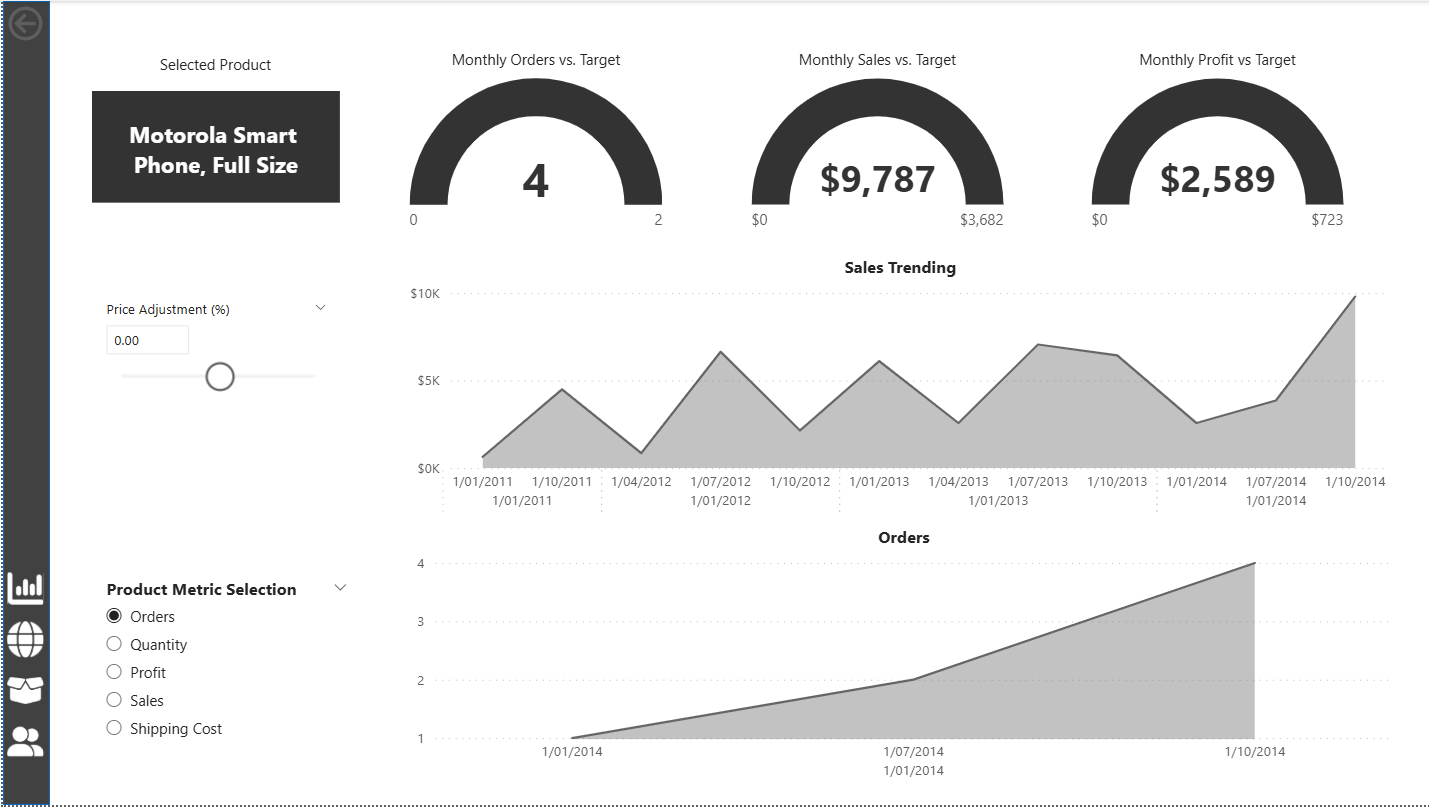

The dashboard page shown, as its layout file describes it:
{"tool":"powerbi","page":{"name":"Product Detail","canvas":[1280,720],"ordinal":2},"visuals":[{"type":"gauge","title":"Monthly Orders vs. Target","fields":{"Y":["Measure Table.Total Orders"],"MaxValue":["Measure Table.Order Target"]},"box":[359.1,43,236.4,175.5],"z":0},{"type":"actionButton","box":[0,506,42.1,40.3],"z":0,"group":"g1"},{"type":"gauge","title":"Monthly Sales vs. Target","fields":{"Y":["Measure Table.Total sales"],"MaxValue":["Measure Table.Sales Target"]},"box":[664.9,43,235.5,175.5],"z":1000},{"type":"actionButton","box":[0,506,42.1,40.3],"z":1000,"group":"g1"},{"type":"gauge","title":"Monthly Profit vs Target","fields":{"Y":["Measure Table.Total Profit"],"MaxValue":["Measure Table.Profit Target"]},"box":[969.9,43,235.5,175.5],"z":2000},{"type":"actionButton","box":[0,643,42.1,40.3],"z":2000,"group":"g1"},{"type":"areaChart","fields":{"Category":["bi_sales dim_date.Date Hierarchy.Start of Year","bi_sales dim_date.Date Hierarchy.Start of Month","bi_sales dim_date.Date Hierarchy.Start of Week"],"Y":["Measure Table.Total Orders"]},"box":[365.4,469.3,883,241.8],"z":3000},{"type":"actionButton","box":[0,643,42.1,40.3],"z":3000,"group":"g1"},{"type":"areaChart","title":"Sales Trending","fields":{"Y":["Measure Table.Total sales"],"Category":["bi_sales dim_date.Date Hierarchy.Start of Year","bi_sales dim_date.Date Hierarchy.Start of Month","bi_sales dim_date.Date Hierarchy.Start of Week"]},"box":[359.1,227.5,889.3,241.8],"z":4000},{"type":"actionButton","box":[0,597.3,42.1,40.3],"z":4000,"group":"g1"},{"type":"shape","box":[0,0,42.1,720],"z":5000},{"type":"actionButton","box":[0,597.3,42.1,40.3],"z":5000,"group":"g1"},{"type":"actionButton","box":[0,0,42.1,40.3],"z":6000},{"type":"actionButton","box":[0,551.7,42.1,40.3],"z":6000,"group":"g1"},{"type":"card","fields":{"Values":["Min(bi_sales dim_product.product_name)"]},"box":[79.7,80.6,222.1,100.3],"z":7000},{"type":"actionButton","box":[0,551.7,42.1,40.3],"z":7000,"group":"g1"},{"type":"textbox","box":[102.1,43,176.4,32.2],"z":8000},{"type":"group","id":"g1","title":"Nav Buttons","box":[0,506,42.1,177.3],"z":9000},{"type":"slicer","fields":{"Values":["Price Adjustment.Price Adjustment"]},"box":[79.7,262.4,222.1,116.4],"z":10000},{"type":"slicer","fields":{"Values":["Product Metric Selection.Product Metric Selection"]},"box":[79.7,511.3,240.9,171.9],"z":11000}]}

Visuals, with their boxes on the page's 1280x720 design canvas (x1, y1, x2, y2). These are canvas units, not pixel positions in the 1429x812 screenshot, which may show the page scaled, cropped or inside an application window:
"Monthly Orders vs. Target" gauge: locate(359, 43, 596, 218)
actionButton: locate(0, 506, 42, 546)
"Monthly Sales vs. Target" gauge: locate(665, 43, 900, 218)
actionButton: locate(0, 506, 42, 546)
"Monthly Profit vs Target" gauge: locate(970, 43, 1205, 218)
actionButton: locate(0, 643, 42, 683)
areaChart - bi_sales dim_date.Date Hierarchy.Start of Year x bi_sales dim_date.Date Hierarchy.Start of Month: locate(365, 469, 1248, 711)
actionButton: locate(0, 643, 42, 683)
"Sales Trending" areaChart: locate(359, 228, 1248, 469)
actionButton: locate(0, 597, 42, 638)
shape: locate(0, 0, 42, 720)
actionButton: locate(0, 597, 42, 638)
actionButton: locate(0, 0, 42, 40)
actionButton: locate(0, 552, 42, 592)
card - Min(bi_sales dim_product.product_name): locate(80, 81, 302, 181)
actionButton: locate(0, 552, 42, 592)
textbox: locate(102, 43, 278, 75)
"Nav Buttons" group: locate(0, 506, 42, 683)
slicer - Price Adjustment.Price Adjustment: locate(80, 262, 302, 379)
slicer - Product Metric Selection.Product Metric Selection: locate(80, 511, 321, 683)
